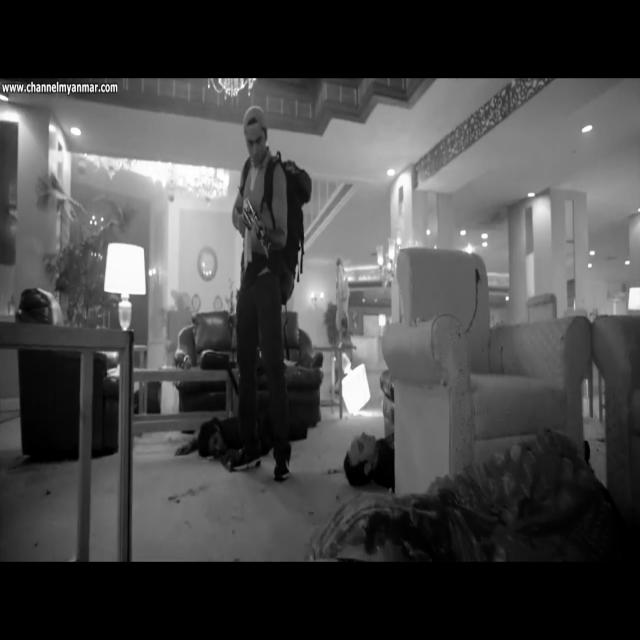gun: (242, 197, 272, 275)
